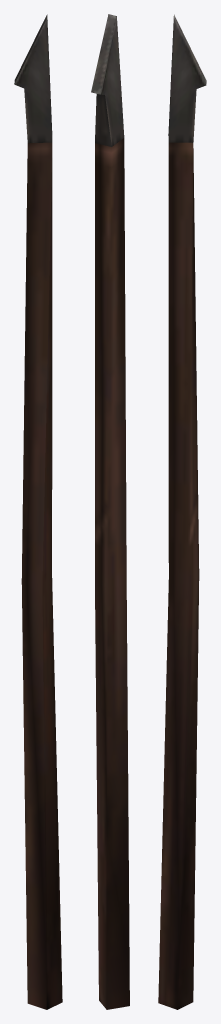
Rendered from polearm_trog01_384a8933.glb.
3 renders of one model, left to right at view 1: azimuth 90°, elevation 25°; view 2: azimuth 150°, elevation 25°; view 3: azimuth 270°, elevation 25°, orthographic.
Bounding box in the file's own units: 0.1087 × 3.51 × 0.1552.
1 material, 1 textured.
